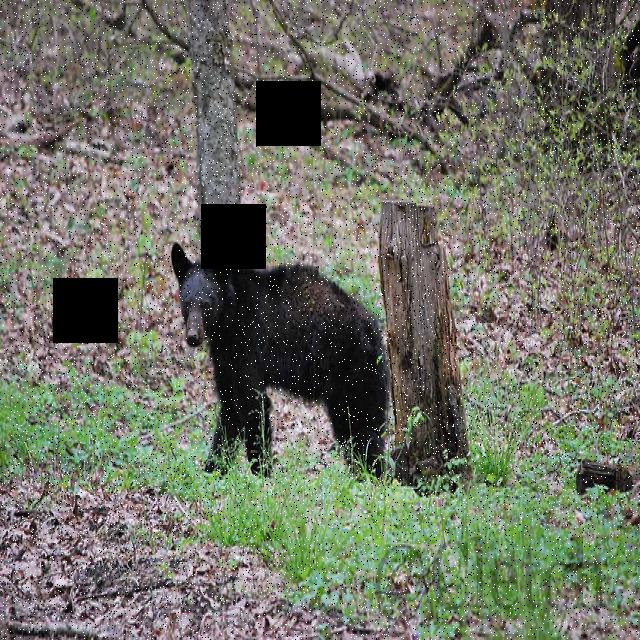Bear: (170, 230, 390, 496)
